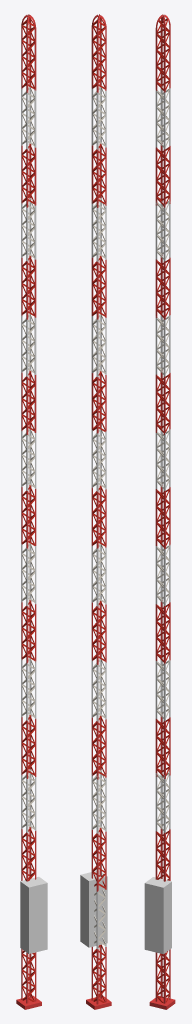
Rendered from torre.glb.
The picture shows the model from 3 angles, left to right: view 1: azimuth 30°, elevation 25°; view 2: azimuth 210°, elevation 25°; view 3: azimuth 330°, elevation 25°; orthographic projection.
Visible parts, largest first — view 1: Cube.001, Cube.003; view 2: Cube.001, Cube.003; view 3: Cube.001, Cube.003.
Part boxes in pixels (box(x1,y1,x2,y2)): Cube.001: box(16, 14, 41, 1009); Cube.003: box(20, 876, 47, 953); Cube.001: box(86, 14, 111, 1009); Cube.003: box(80, 870, 107, 947); Cube.001: box(149, 14, 175, 1009); Cube.003: box(144, 877, 171, 954).
Bounding box in the file's own units: 1.88 × 94.13 × 2.27.
